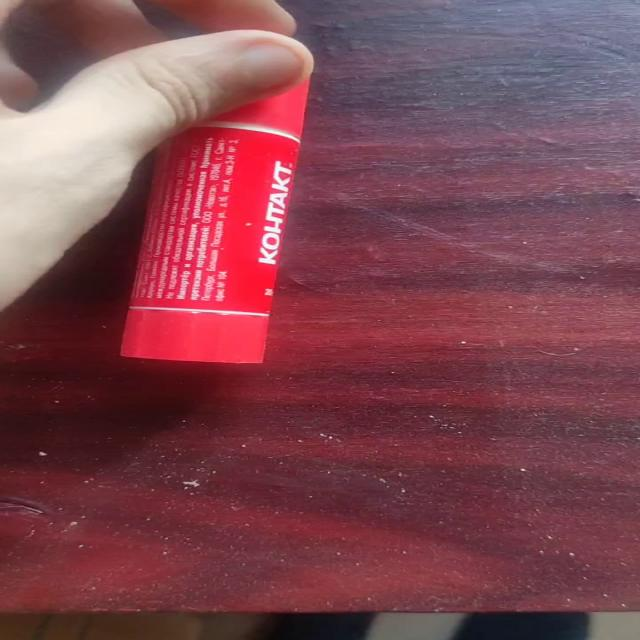glue: (117, 2, 313, 364)
